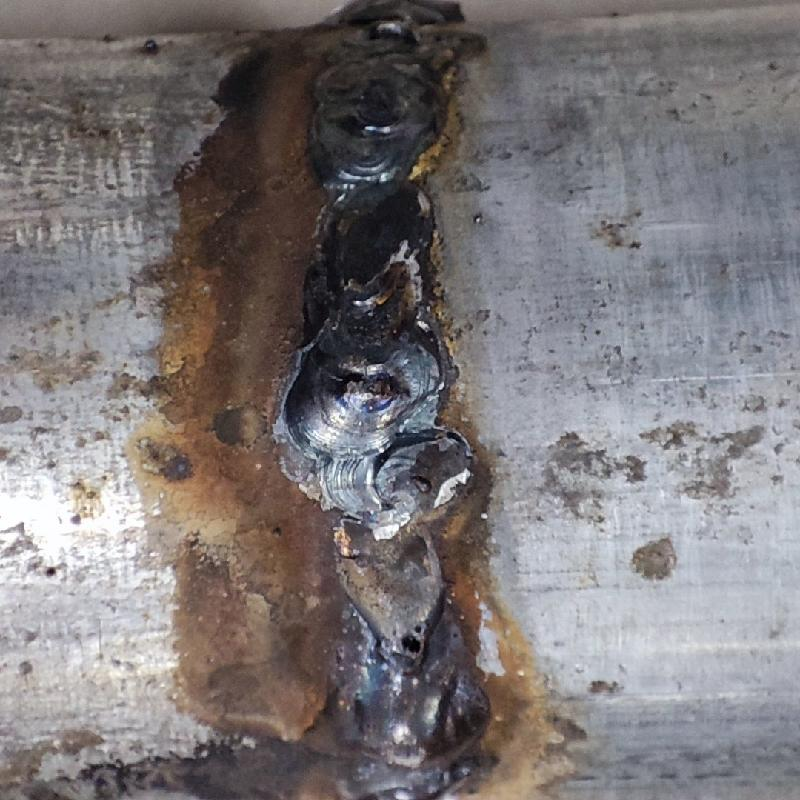Not_fully_soldered: (308, 451, 464, 664), (314, 13, 477, 62)
wrong_size: (296, 63, 463, 455)
